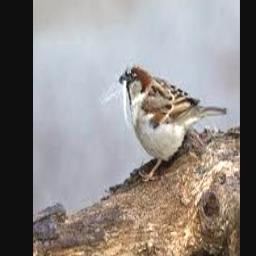Sparrow: (119, 63, 228, 181)
